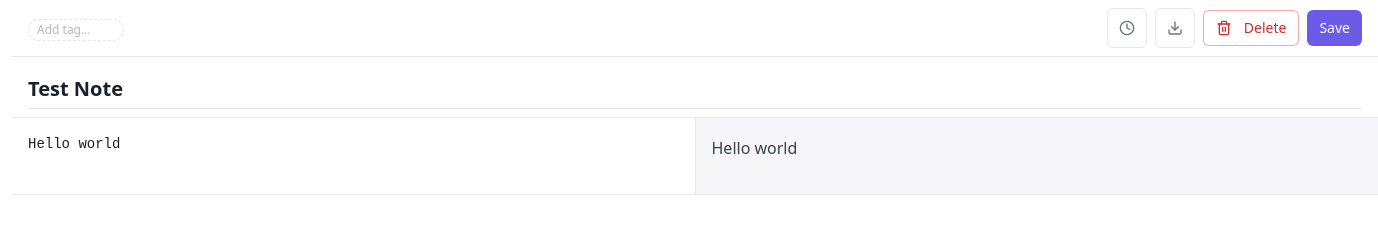
Scenario: VersionHistoryPanel — version list › shows empty state when there are no previous versions
Expected: the field showing "Test Note" is shown, [28,69,1362,109]
Click the button named "version history". click: (1127, 28)
box: [1107,8,1147,48]
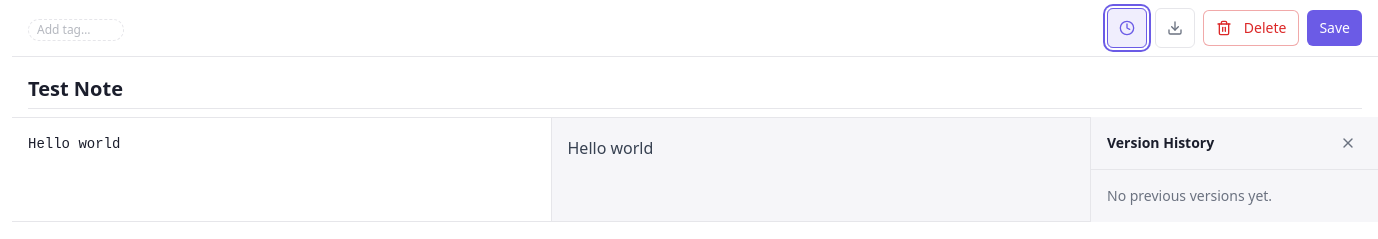
Result: the heading "Version History" is shown at [1107,133,1214,153]
Result: the text "No previous versions yet." is shown at [1107,186,1272,205]
